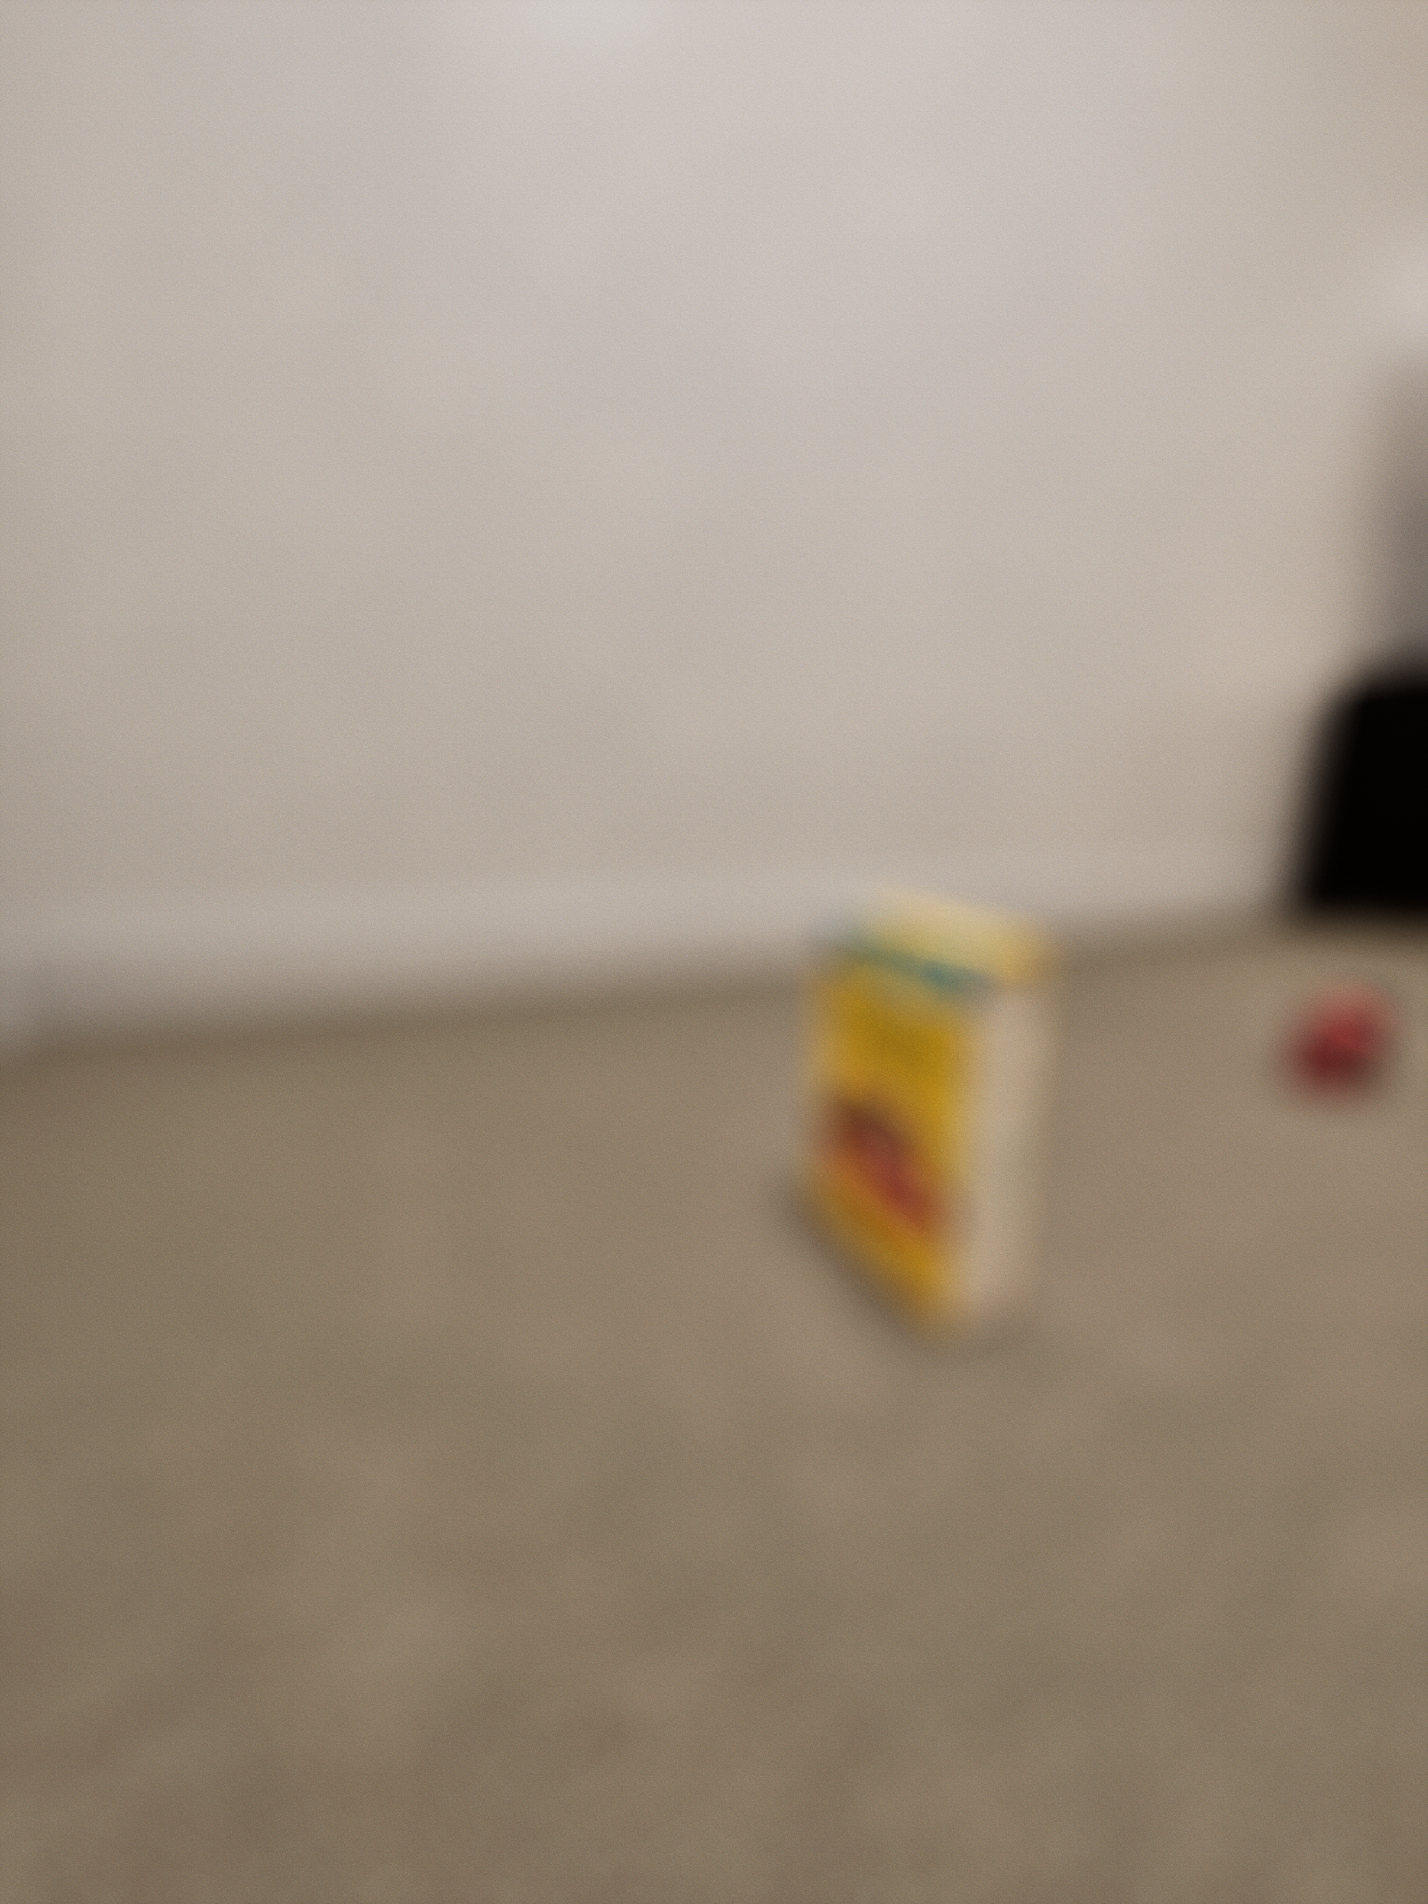cheerios: (592, 322, 930, 1300)
